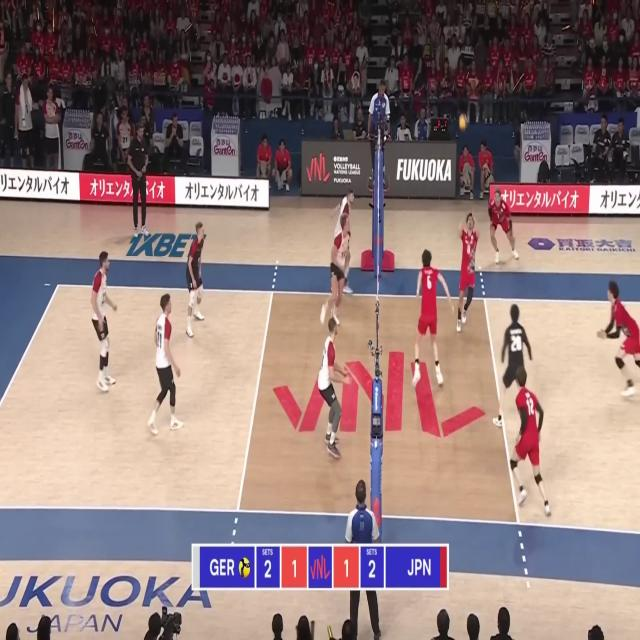referee: (345, 478, 384, 640)
team_one: (148, 292, 184, 436), (317, 318, 350, 460), (90, 250, 118, 396), (321, 214, 352, 329), (185, 222, 206, 338), (334, 190, 356, 251)
team_two: (509, 369, 552, 518), (411, 248, 453, 390), (595, 279, 640, 401), (493, 301, 534, 430), (456, 213, 480, 332), (487, 188, 517, 266)
